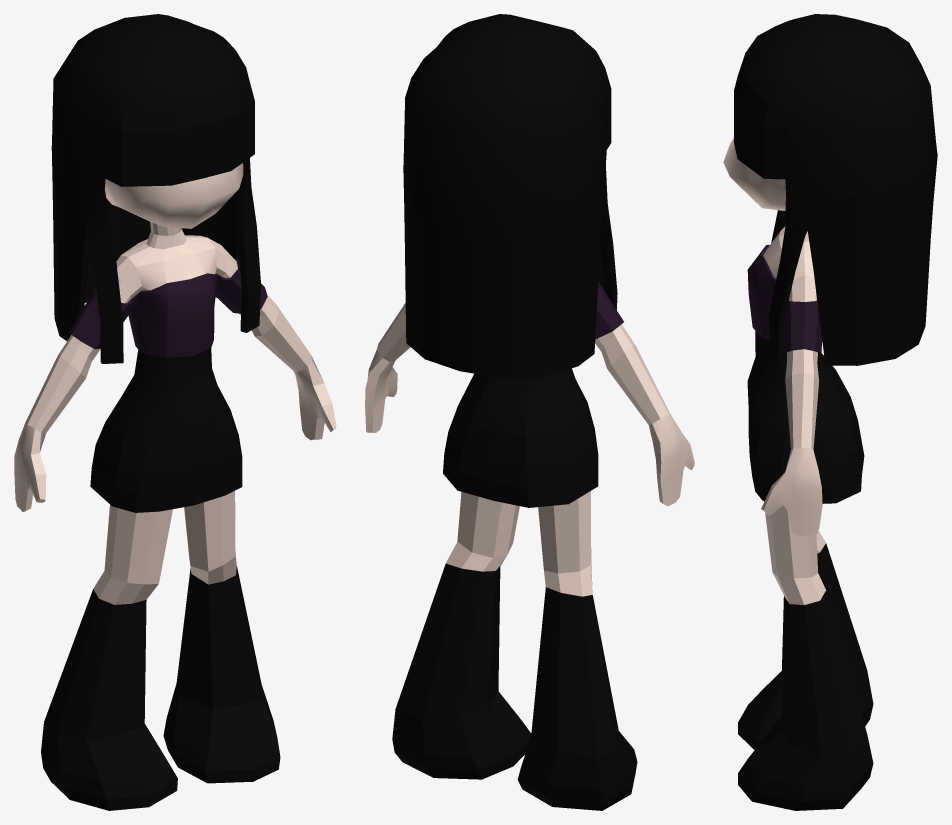
The model's file is chicaEmo.fbx.
3 views of the same model, side by side, from view 1: azimuth 30°, elevation 25°; view 2: azimuth 150°, elevation 25°; view 3: azimuth 270°, elevation 25° (orthographic). The views are drawn at different scales.
Bounding box in the file's own units: 62.09 × 145 × 38.35.
